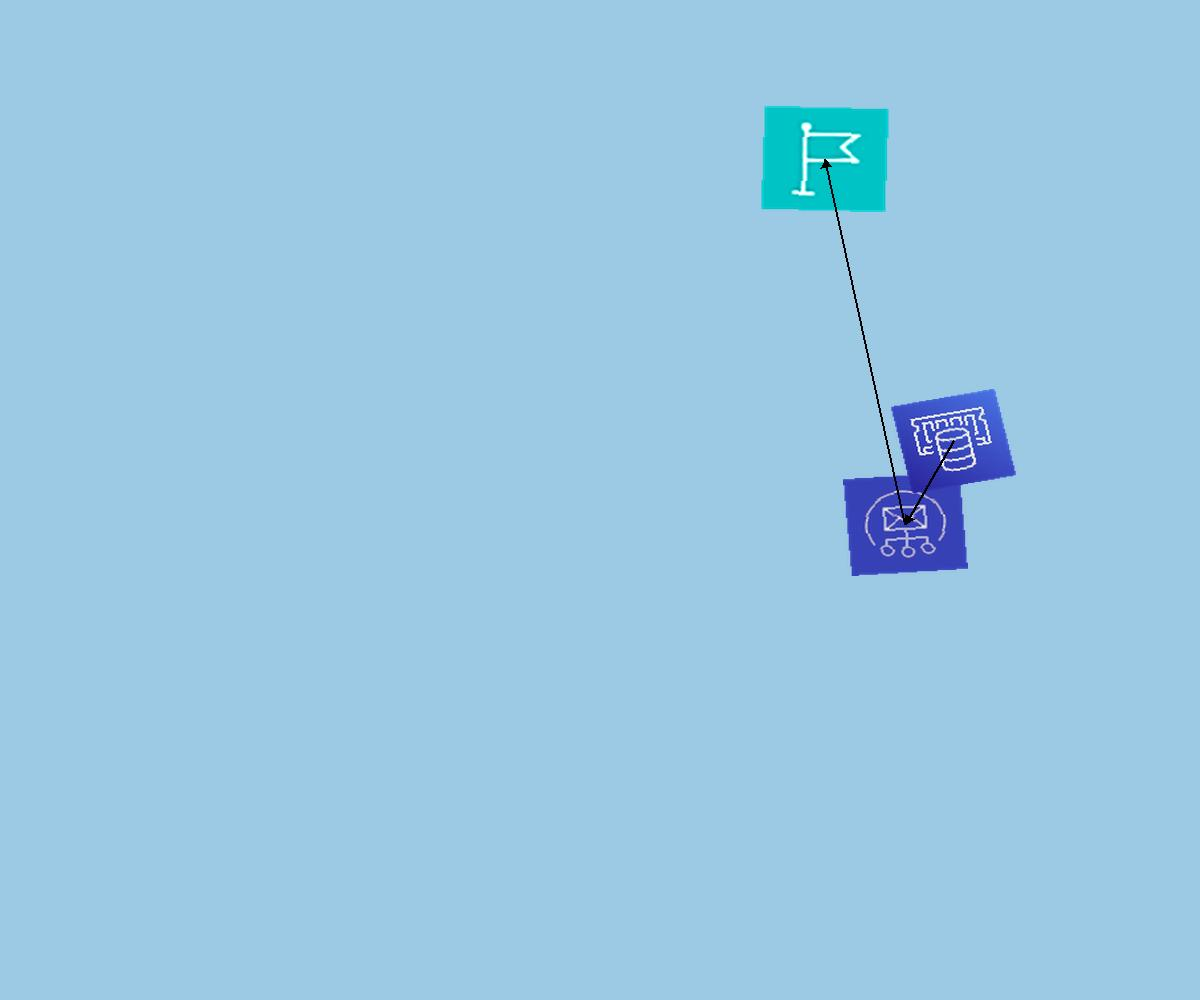AWS-ElastiCache: (890, 388, 1017, 494)
AWS-Region: (760, 105, 890, 213)
AWS-Simple-Email-Service: (843, 472, 968, 576)
